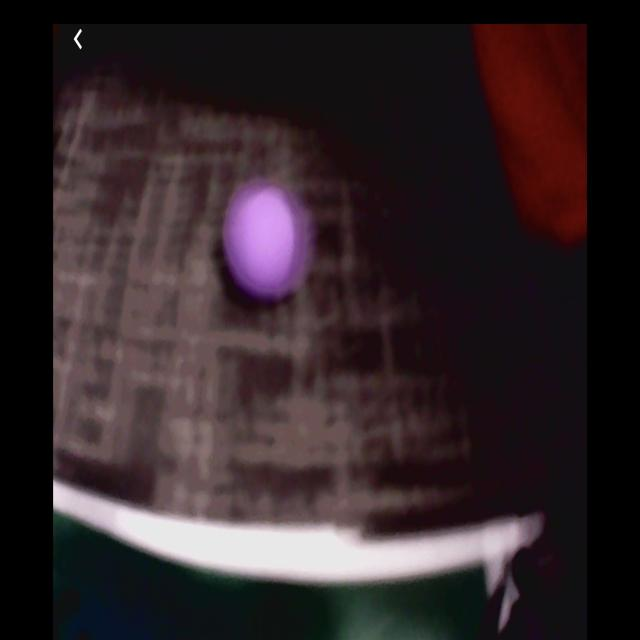ball: (225, 170, 301, 298)
